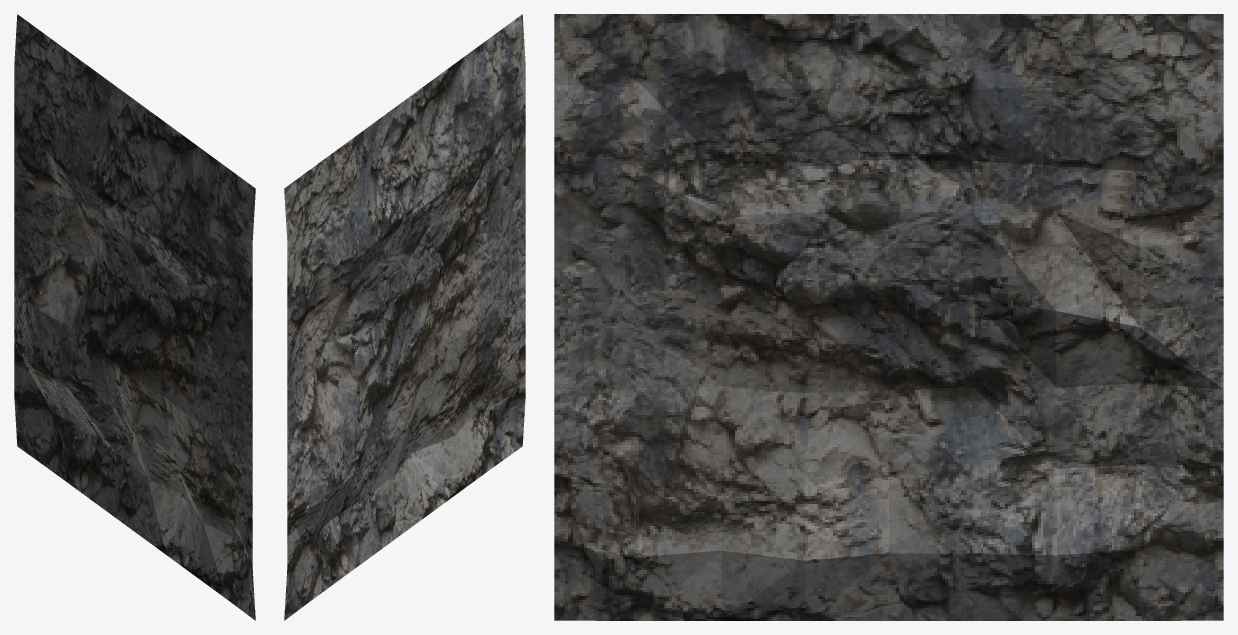
File: 04_wall_01_seamless.glb
The picture shows the model from 3 angles, left to right: view 1: azimuth 30°, elevation 25°; view 2: azimuth 150°, elevation 25°; view 3: azimuth 270°, elevation 25°; orthographic projection. The views are drawn at different scales.
Parts seen in each view (by area): view 1: 04_wall_01_seamless; view 2: 04_wall_01_seamless; view 3: 04_wall_01_seamless.
Boxes of the visible parts, x1=… form: 04_wall_01_seamless: x1=14, y1=14, x2=255, y2=620; 04_wall_01_seamless: x1=284, y1=14, x2=525, y2=620; 04_wall_01_seamless: x1=554, y1=14, x2=1223, y2=620.
Bounding box in the file's own units: 1.4 × 16 × 16.
1 material, 1 textured.
